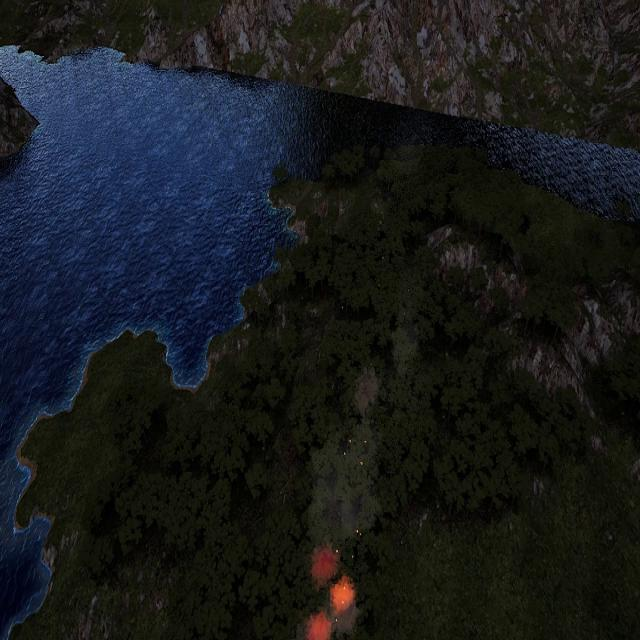smoke: (304, 422, 377, 640)
